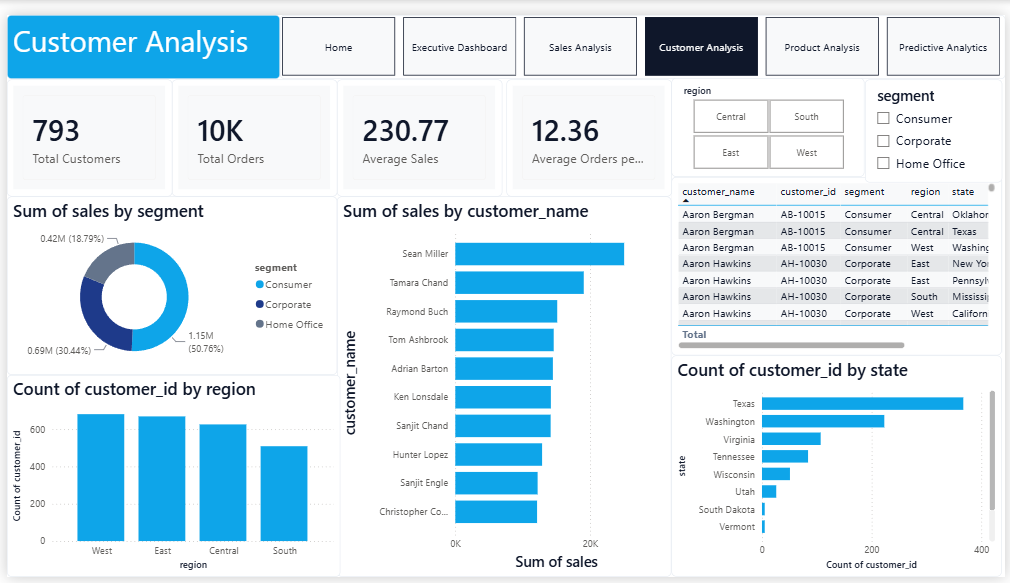

What the dashboard file says about the page in this screenshot:
{"tool":"powerbi","page":{"name":"Customer Analysis","canvas":[1280,720],"ordinal":3},"visuals":[{"type":"textbox","box":[0,0,349.8,81.8],"z":0},{"type":"pageNavigator","box":[349.8,0,929.7,81.8],"z":1000},{"type":"cardVisual","fields":{"Data":["public orders.Total Customers"]},"box":[0,81.8,212,149.9],"z":2000},{"type":"cardVisual","fields":{"Data":["public orders.Total Orders"]},"box":[212,81.8,212,149.9],"z":3000},{"type":"cardVisual","fields":{"Data":["public orders.Average Sales"]},"box":[424,81.8,212,149.9],"z":4000},{"type":"cardVisual","fields":{"Data":["public orders.Average Orders per Customer"]},"box":[640.5,83.3,212,149.9],"z":5000},{"type":"donutChart","fields":{"Category":["public orders.segment"],"Y":["Sum(public orders.sales)"]},"box":[0,232.4,423.3,228.7],"z":6000},{"type":"clusteredBarChart","fields":{"Category":["public orders.customer_name"],"Y":["Sum(public orders.sales)"]},"box":[423.3,232.4,429,487.6],"z":7000},{"type":"clusteredColumnChart","fields":{"Category":["public orders.region"],"Y":["Count(public orders.customer_id)"]},"box":[0,461.1,427.1,258.9],"z":8000},{"type":"clusteredBarChart","fields":{"Category":["public orders.state"],"Y":["Count(public orders.customer_id)"]},"box":[852.3,436.5,423.3,283.5],"z":9000},{"type":"tableEx","fields":{"Values":["public orders.customer_name","public orders.customer_id","public orders.segment","public orders.region","public orders.state","Sum(public orders.sales)"]},"box":[852.3,207.9,423.3,228.7],"z":10000},{"type":"slicer","fields":{"Values":["public orders.region"]},"box":[852.3,81.3,247.6,126.6],"z":11000},{"type":"slicer","fields":{"Values":["public orders.segment"]},"box":[1099.9,83.2,175.7,132.3],"z":12000}]}

Visuals, with their boxes in screenshot pixels (x1, y1, x2, y2), scaled from the page's 1280x720 canvas onto the 1010x583 screenshot:
textbox: 0 0 276 66
pageNavigator: 276 0 1009 66
cardVisual - public orders.Total Customers: 0 66 167 188
cardVisual - public orders.Total Orders: 167 66 335 188
cardVisual - public orders.Average Sales: 335 66 502 188
cardVisual - public orders.Average Orders per Customer: 505 67 673 189
donutChart - public orders.segment x Sum(public orders.sales): 0 188 334 373
clusteredBarChart - public orders.customer_name x Sum(public orders.sales): 334 188 673 582
clusteredColumnChart - public orders.region x Count(public orders.customer_id): 0 373 337 582
clusteredBarChart - public orders.state x Count(public orders.customer_id): 673 353 1007 582
tableEx - public orders.customer_name x public orders.customer_id: 673 168 1007 354
slicer - public orders.region: 673 66 868 168
slicer - public orders.segment: 868 67 1007 174
